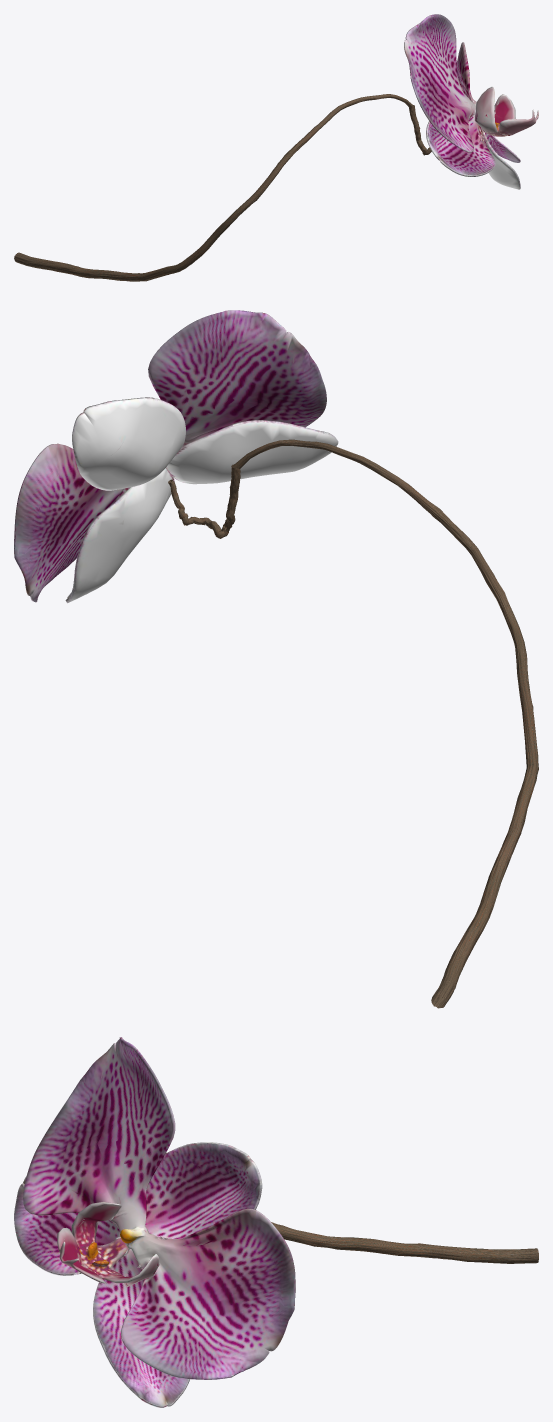
The model's file is kiri.glb.
3 renders of one model, top to bottom at view 1: azimuth 30°, elevation 25°; view 2: azimuth 150°, elevation 25°; view 3: azimuth 270°, elevation 25°, orthographic. The views are drawn at different scales.
Visible parts, largest first — view 1: Bake 1.001, Orchid Flowers on Branch.002; view 2: Bake 1.001, Orchid Flowers on Branch.002; view 3: Bake 1.001, Orchid Flowers on Branch.002.
Boxes of the visible parts, x1,y1,x2,y2 form: Bake 1.001: [404, 14, 538, 189]; Orchid Flowers on Branch.002: [14, 94, 431, 281]; Bake 1.001: [14, 310, 338, 603]; Orchid Flowers on Branch.002: [168, 439, 538, 1008]; Bake 1.001: [14, 1037, 295, 1407]; Orchid Flowers on Branch.002: [165, 1152, 538, 1263].
Bounding box in the file's own units: 2.24 × 1.6 × 1.87.
Materials: 2 (2 with a texture image).
